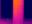Hotspot: (13, 0, 23, 4)
